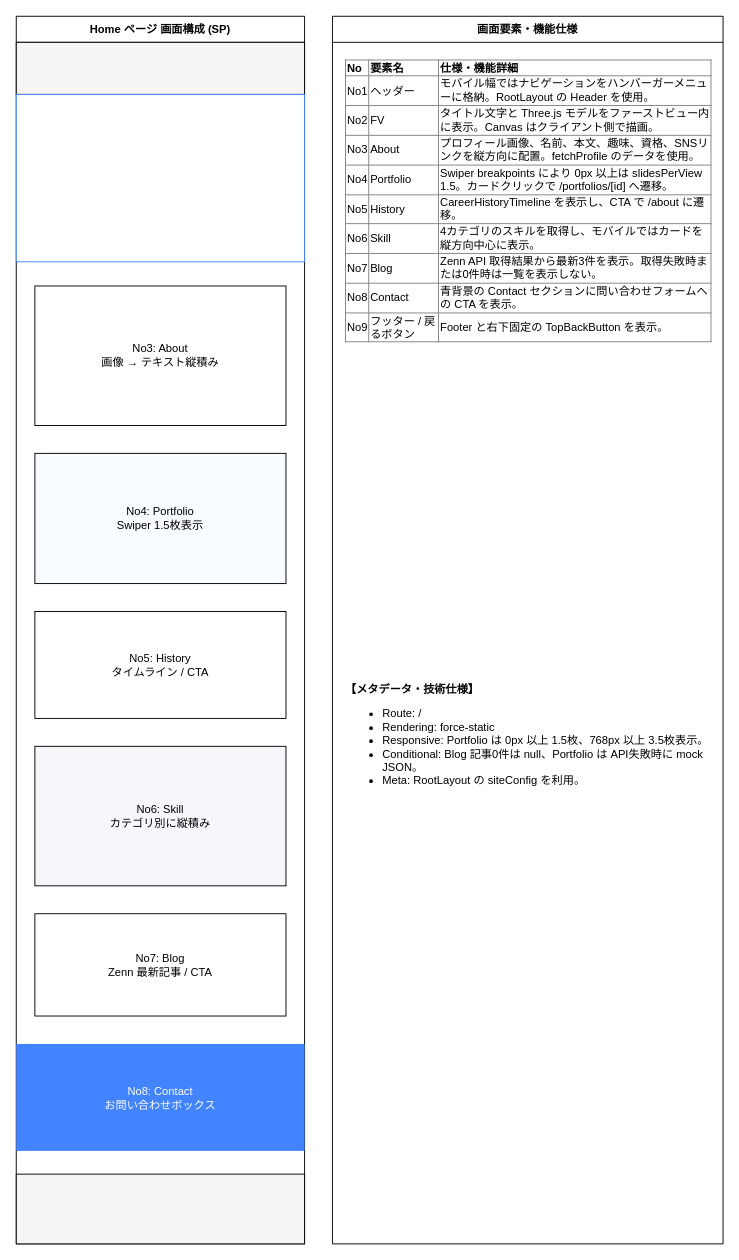
Some shapes in this 739 by 1260 pixel diagram are drawn without their labels. The centre of each missing label's shape, as x and y in pixels:
No1: ヘッダー ハンバーガーナビ: point (160, 67)
No2: FV 大見出し / 3Dモデル: point (160, 177)
No9: フッター / TopBackButton: point (160, 1208)
